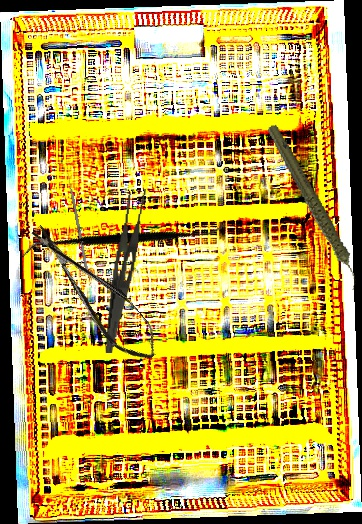Dressing Forceps: (103, 186, 150, 356)
Handpiece: (266, 114, 360, 301)
Micro Scissor: (23, 212, 168, 372)
Pusher: (65, 166, 89, 273)
Spatula Surgical: (20, 143, 228, 337)
